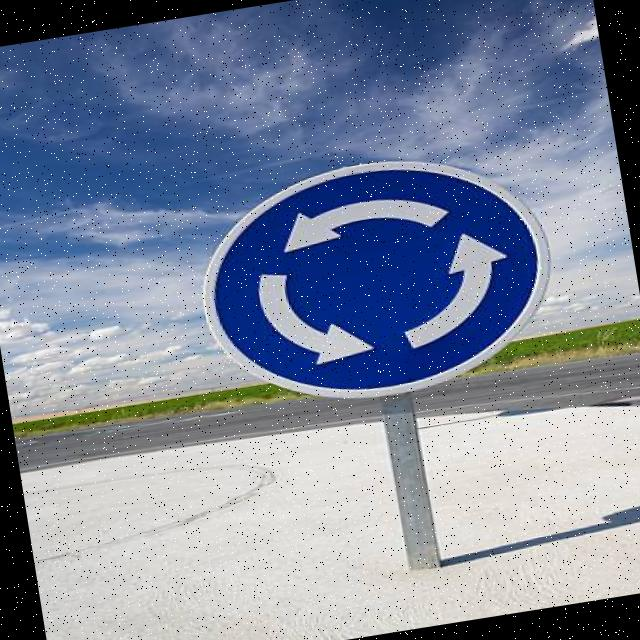round_about: (177, 129, 576, 430)
